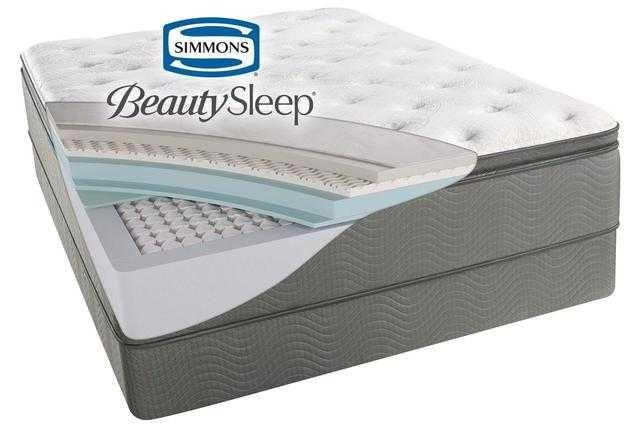pillow: (19, 6, 622, 418)
